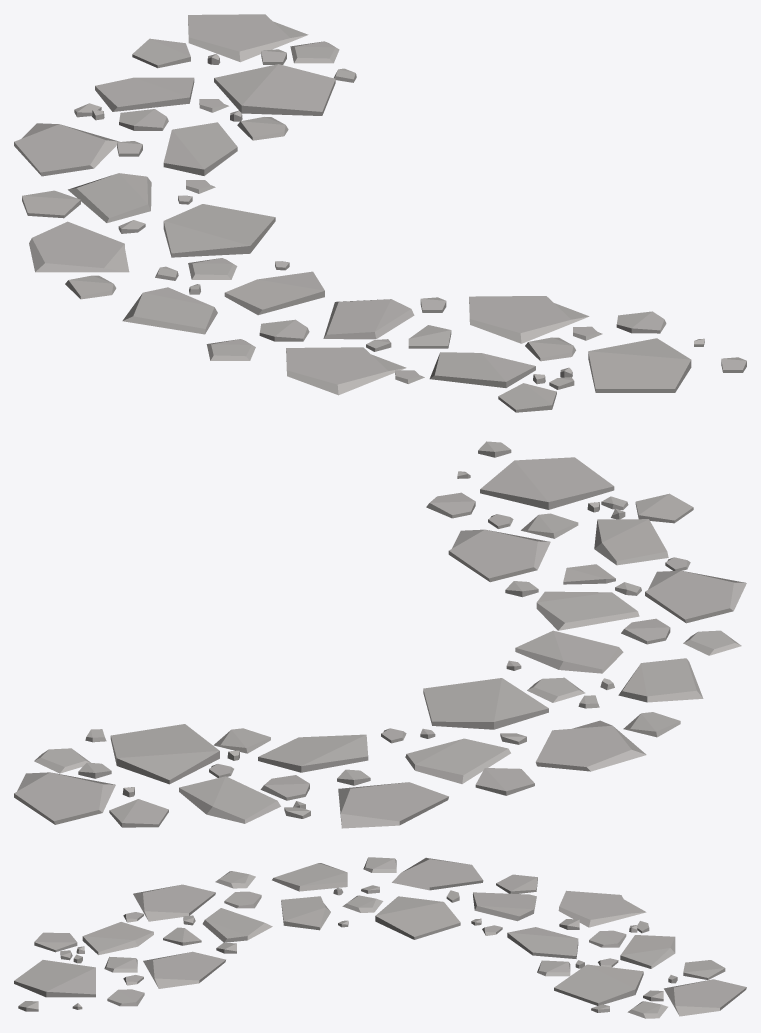
File: Curved 180 Stone Pathway.fbx
3 views of the same model, one above another, from view 1: azimuth 30°, elevation 25°; view 2: azimuth 150°, elevation 25°; view 3: azimuth 270°, elevation 25° (orthographic). The views are drawn at different scales.
Parts seen in each view (by area): view 1: circle path; view 2: circle path; view 3: circle path.
Boxes of the visible parts, x1,y1,x2,y2 form: circle path: [14, 14, 746, 412]; circle path: [14, 441, 746, 828]; circle path: [14, 857, 746, 1018].
Bounding box in the file's own units: 930 × 15.87 × 1784.
